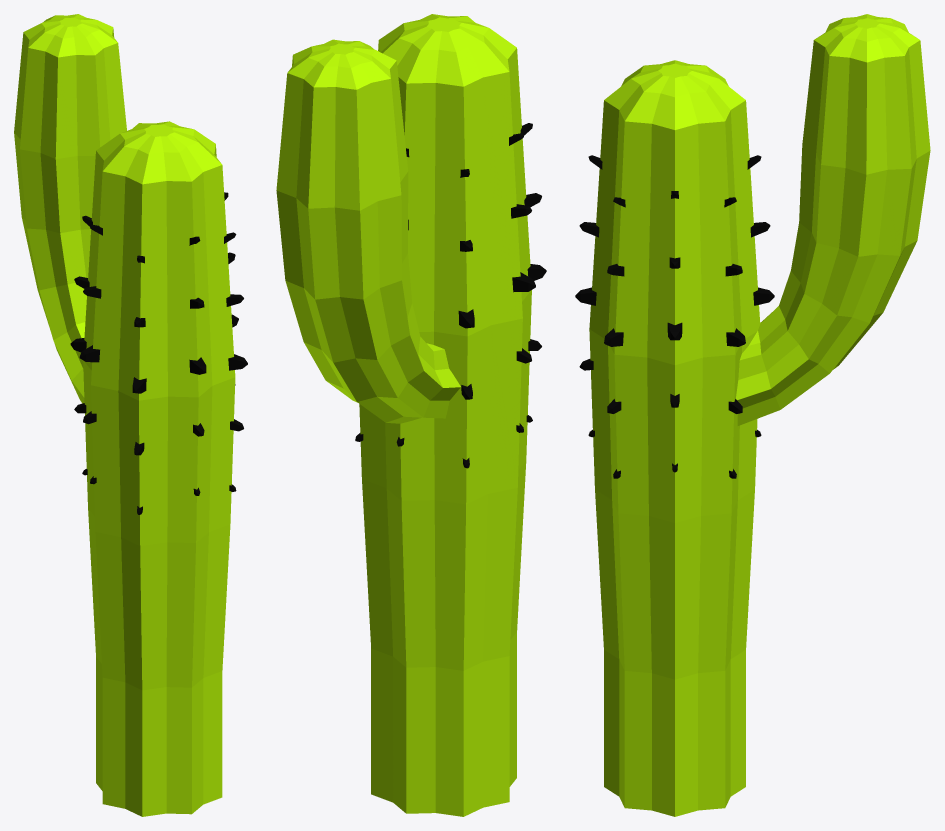
The model's file is Cardon03_01Brazo_Sin_Flor.fbx.
3 renders of one model, left to right at view 1: azimuth 30°, elevation 25°; view 2: azimuth 150°, elevation 25°; view 3: azimuth 270°, elevation 25°, orthographic. The views are drawn at different scales.
Visible parts, largest first — view 1: Cactus_Cuerpo, Espinas; view 2: Cactus_Cuerpo, Espinas; view 3: Cactus_Cuerpo, Espinas.
Part boxes in pixels (bbox=[...]): Cactus_Cuerpo: bbox=[14, 14, 235, 816]; Espinas: bbox=[70, 192, 247, 514]; Cactus_Cuerpo: bbox=[276, 14, 531, 816]; Espinas: bbox=[355, 123, 546, 468]; Cactus_Cuerpo: bbox=[589, 14, 930, 816]; Espinas: bbox=[575, 155, 774, 478].
Bounding box in the file's own units: 53.18 × 225 × 94.85.
